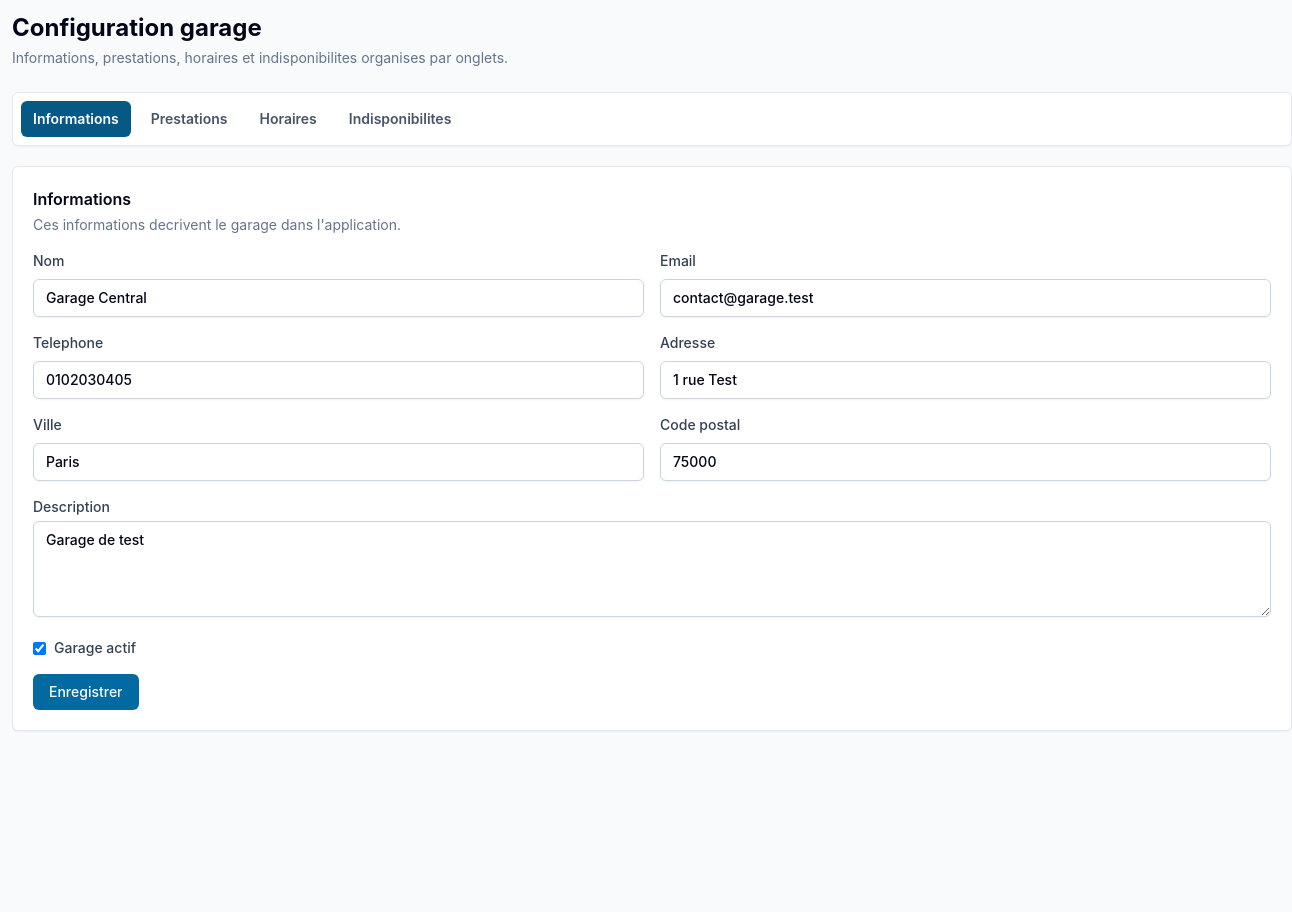
Test case: GarageSettingsPage › refuse la creation prestation avec une duree a 0
The width and height of the screenshot is (1292, 912).
Click the tab "Prestations".
click(189, 119)  # box [139, 101, 240, 137]
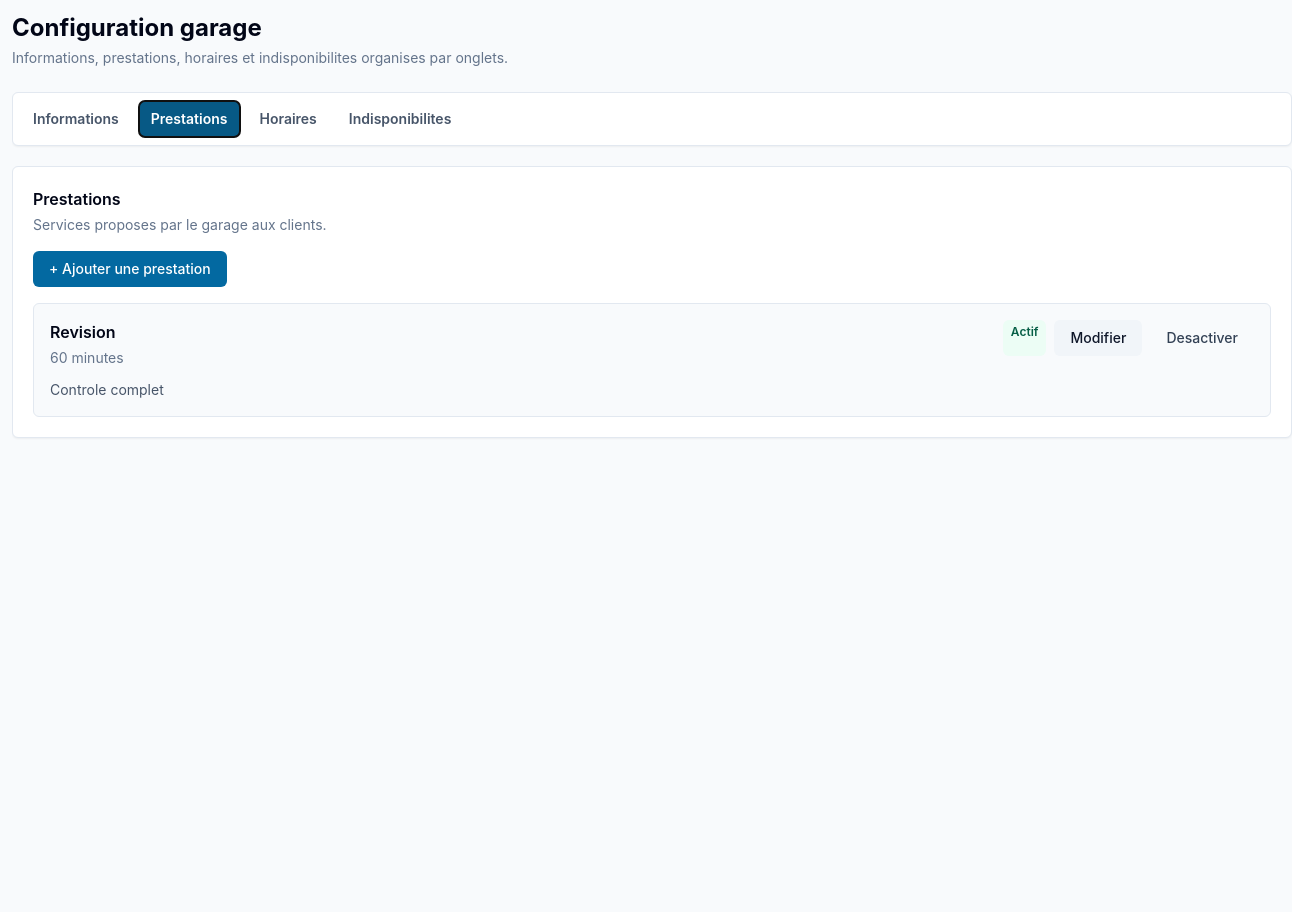
Click the button "+ Ajouter une prestation".
click(130, 269)  # box [33, 251, 227, 287]
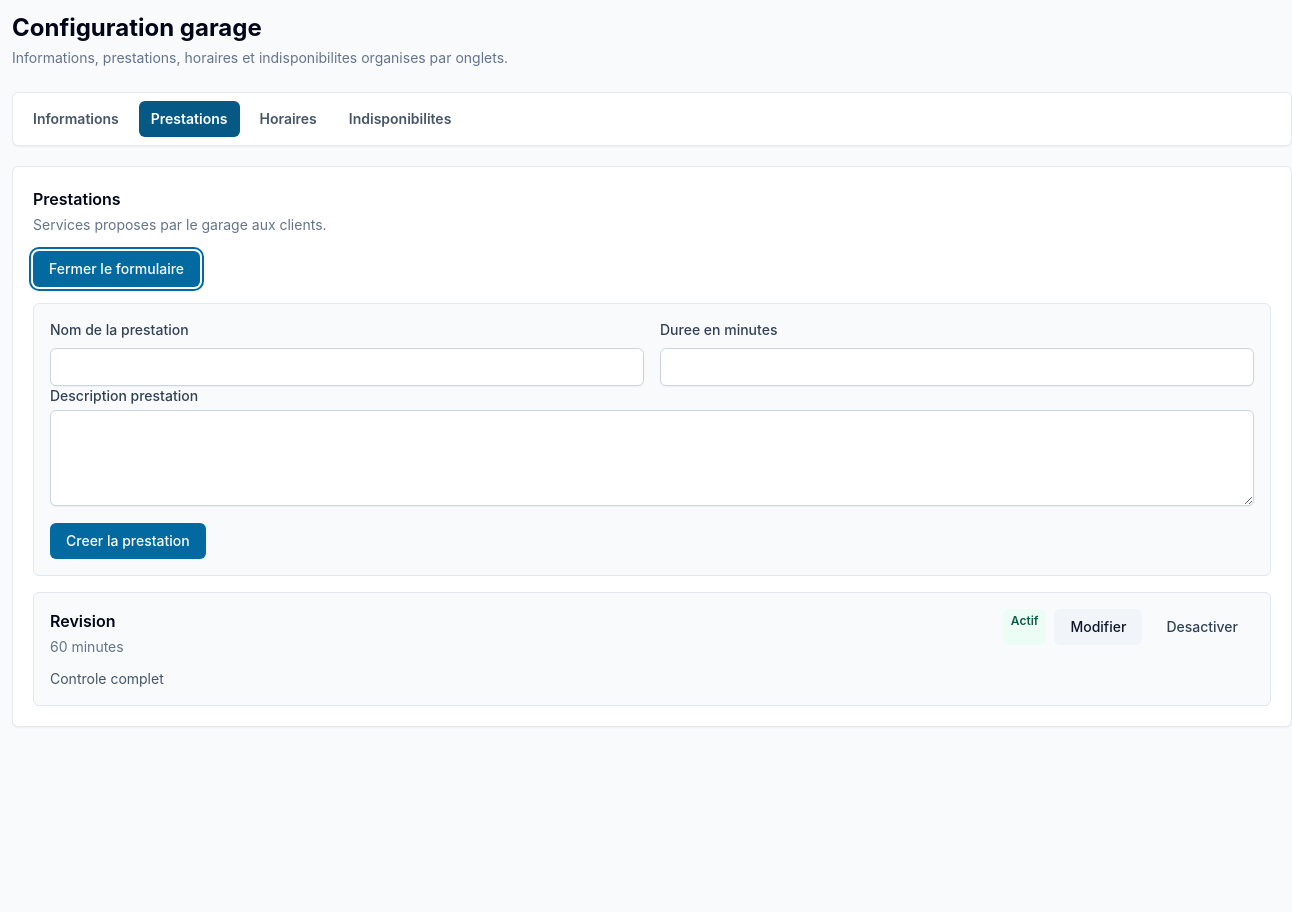
Type "Diagnostic" into the field labelled "Nom de la prestation".
click(347, 367); type("Diagnostic")  # box [50, 348, 644, 386]
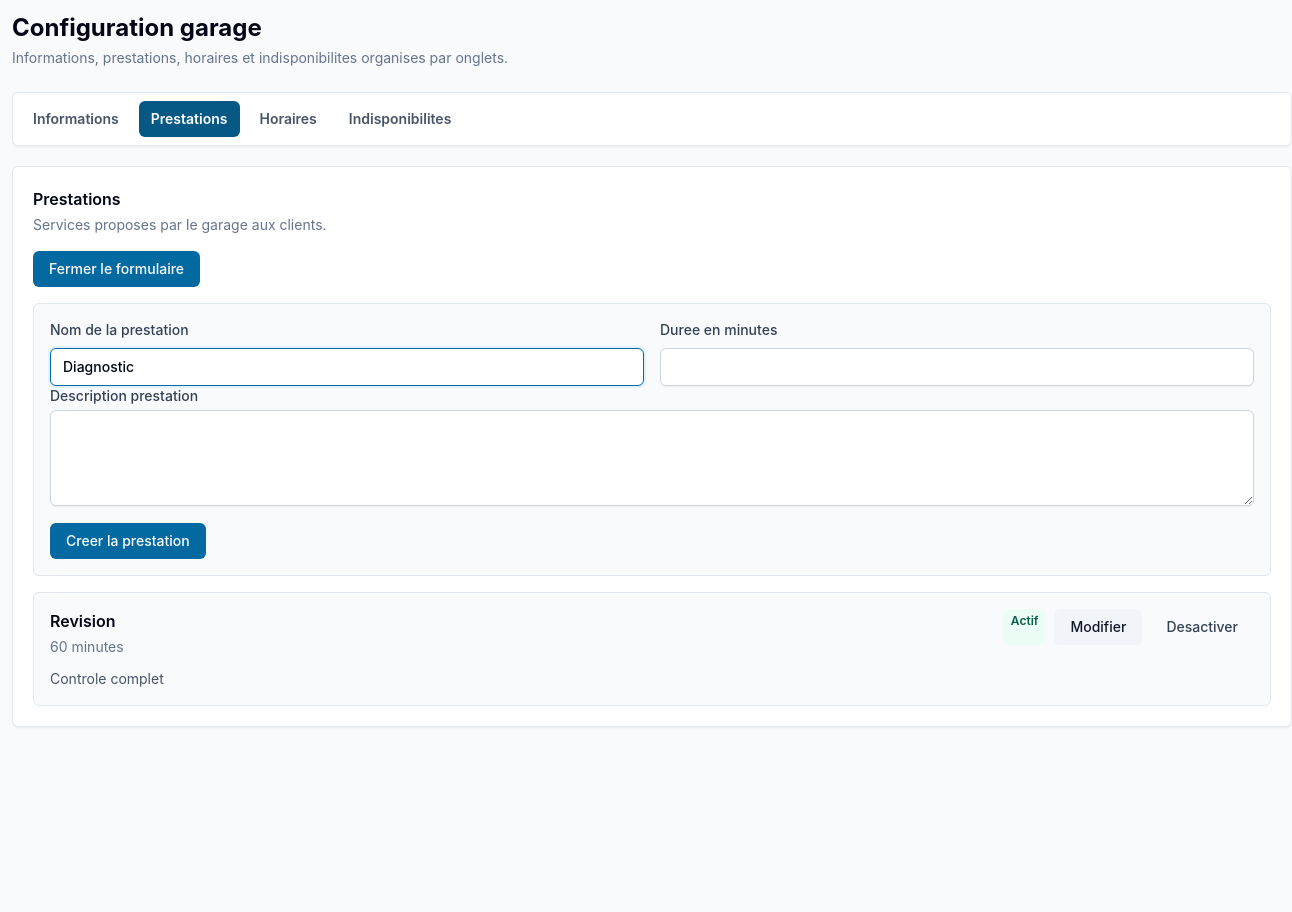
Type "0" into the number field labelled "Duree en minutes".
click(957, 367); type("0")  # box [660, 348, 1254, 386]
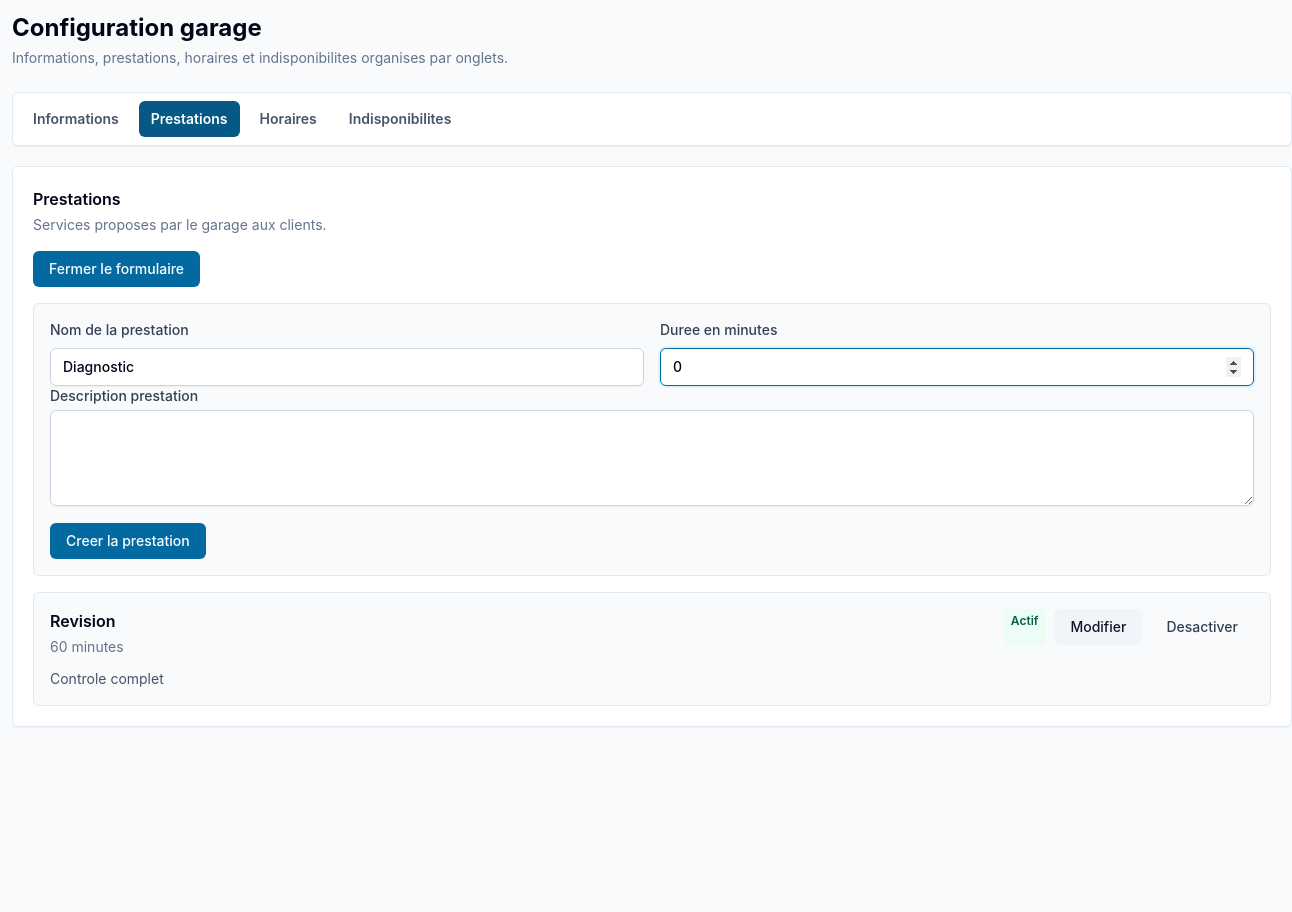
Click the button "Creer la prestation".
click(128, 541)  # box [50, 523, 206, 559]
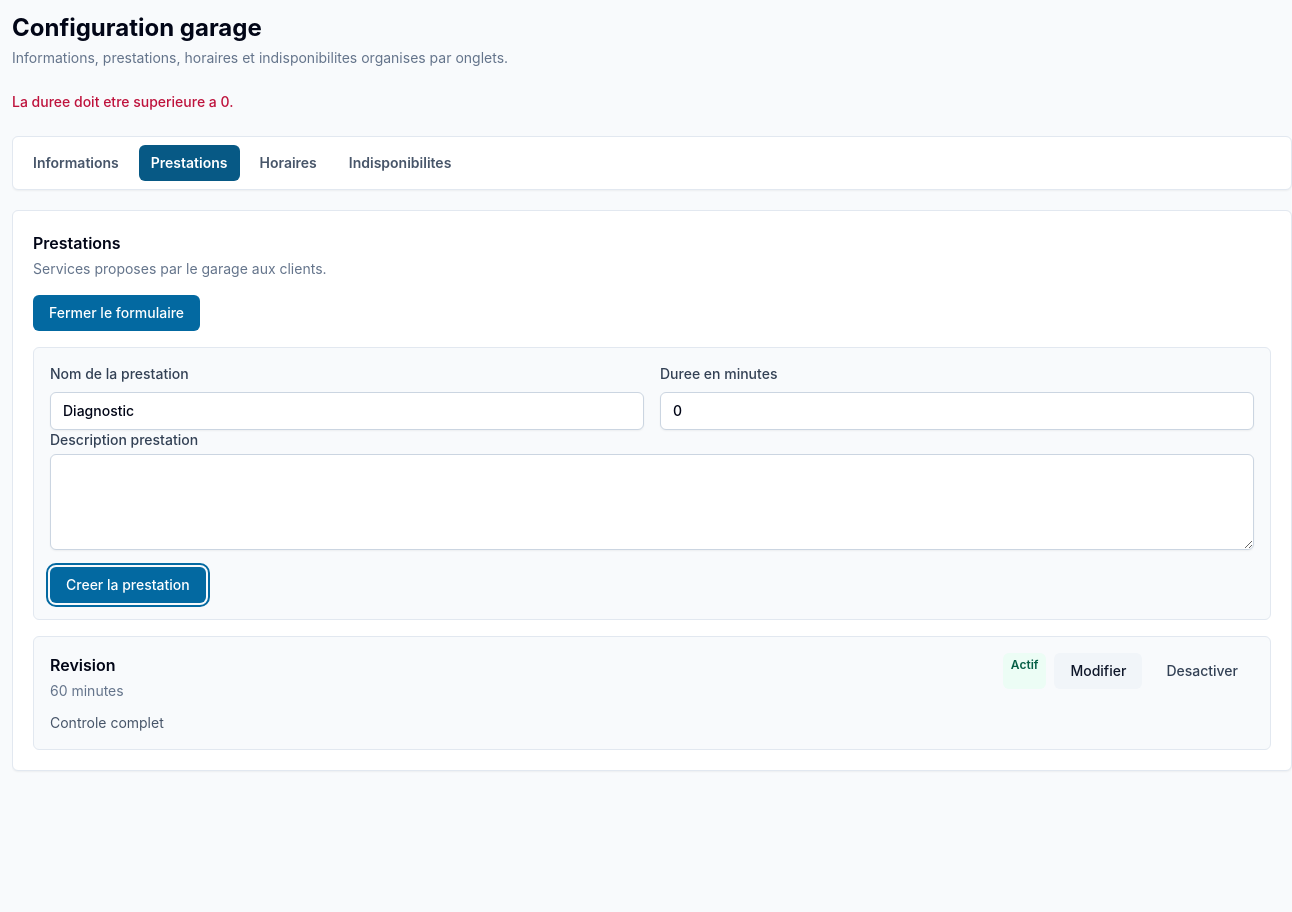
Check: the text "La duree doit etre superieure a 0." is shown, box [12, 93, 234, 110]
